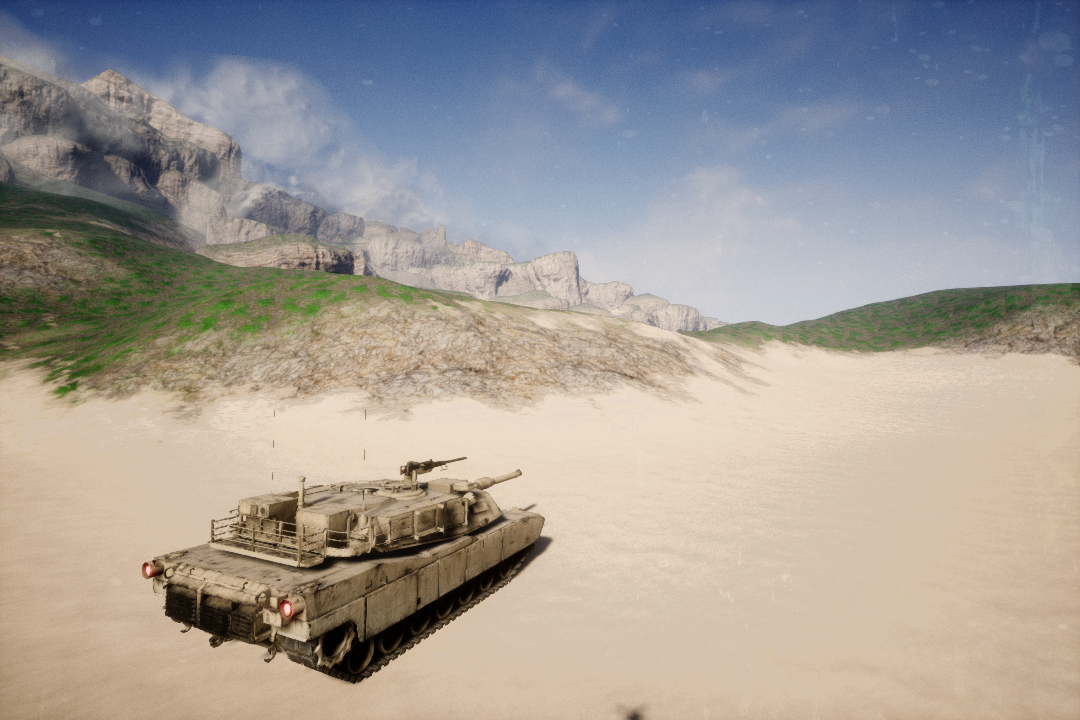tank: (129, 452, 566, 682)
